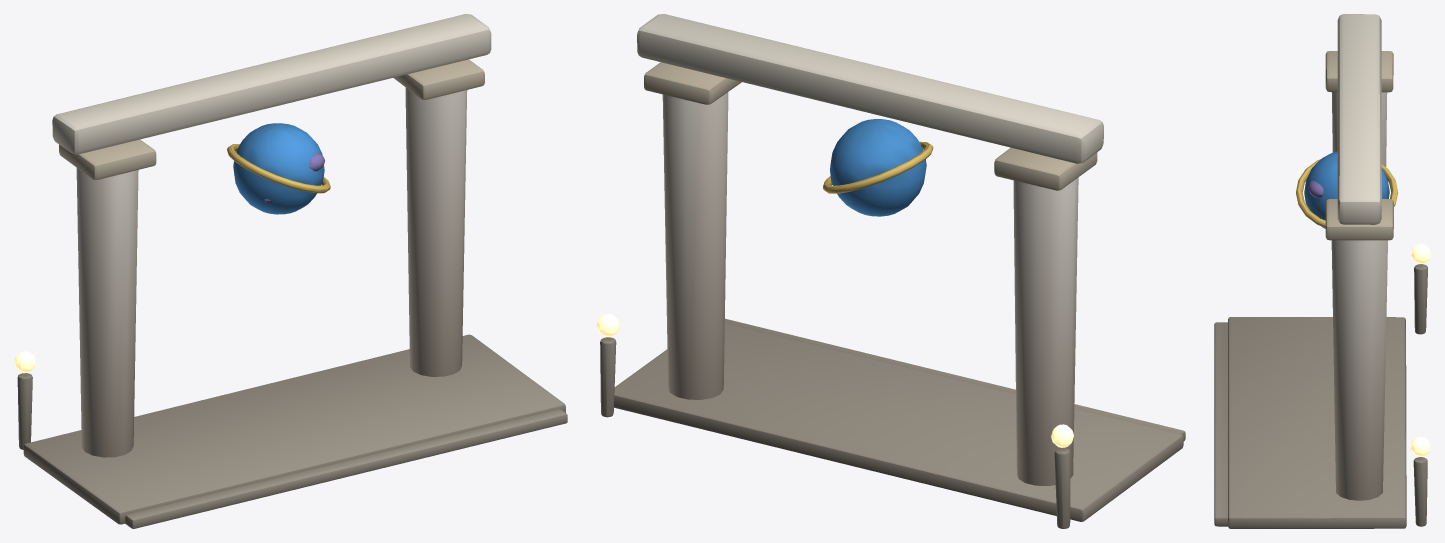
3 renders of one model, left to right at view 1: azimuth 30°, elevation 25°; view 2: azimuth 150°, elevation 25°; view 3: azimuth 270°, elevation 25°, orthographic. The views are drawn at different scales.
Parts seen in each view (by area): view 1: gate_53d1baf9; view 2: gate_53d1baf9; view 3: gate_53d1baf9.
Boxes of the visible parts, <box> form: gate_53d1baf9: <box>14,14,567,528</box>; gate_53d1baf9: <box>596,14,1185,528</box>; gate_53d1baf9: <box>1214,14,1430,528</box>.
Size of the model in its own units: 5.63 by 4.2 by 2.55.
